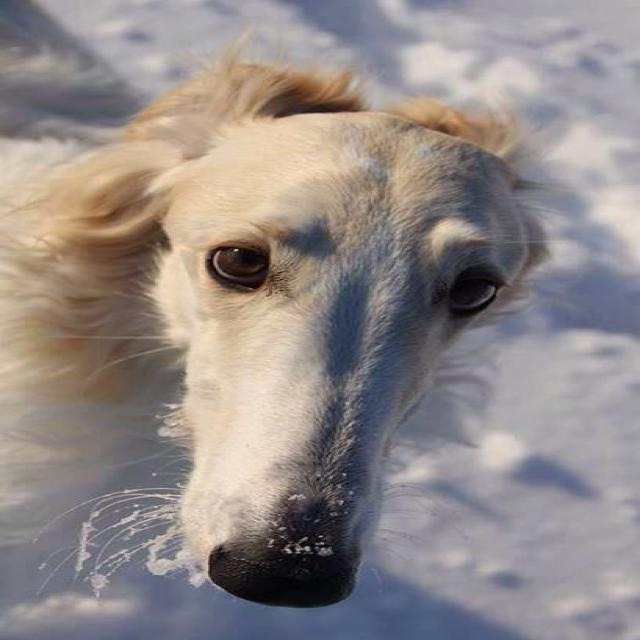dog: (18, 75, 596, 622)
